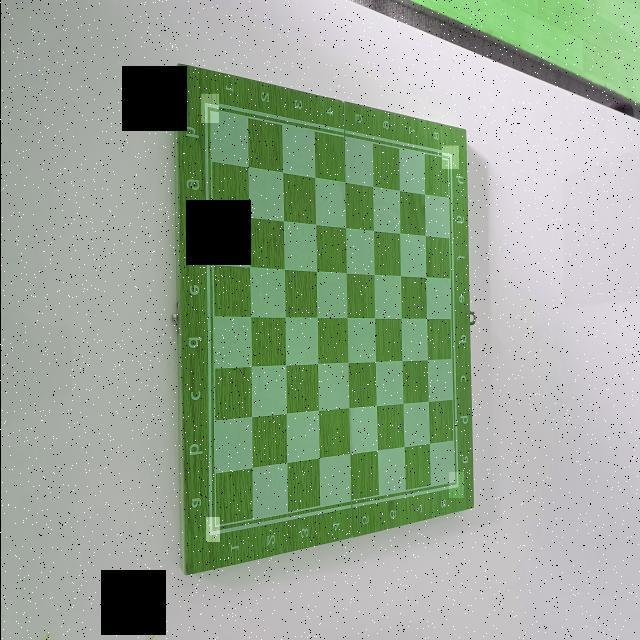chess-table-corners: (200, 92, 218, 122), (441, 144, 458, 168), (448, 472, 463, 498), (205, 517, 219, 542)
